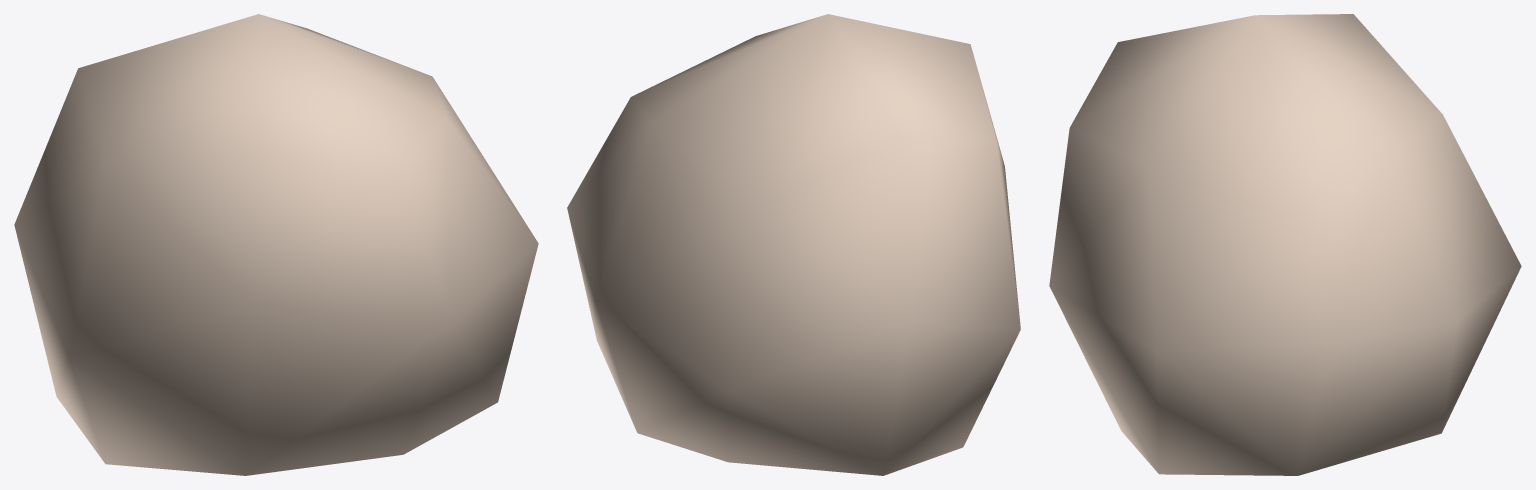
The model's file is Rock_01.fbx.
3 renders of one model, left to right at view 1: azimuth 30°, elevation 25°; view 2: azimuth 150°, elevation 25°; view 3: azimuth 270°, elevation 25°, orthographic. The views are drawn at different scales.
Parts seen in each view (by area): view 1: Rock_01; view 2: Rock_01; view 3: Rock_01.
Boxes of the visible parts, x1,y1,x2,y2 form: Rock_01: (14, 14, 538, 475); Rock_01: (567, 14, 1020, 475); Rock_01: (1049, 14, 1521, 475).
Size of the model in its own units: 63.9 by 64.4 by 64.24.
